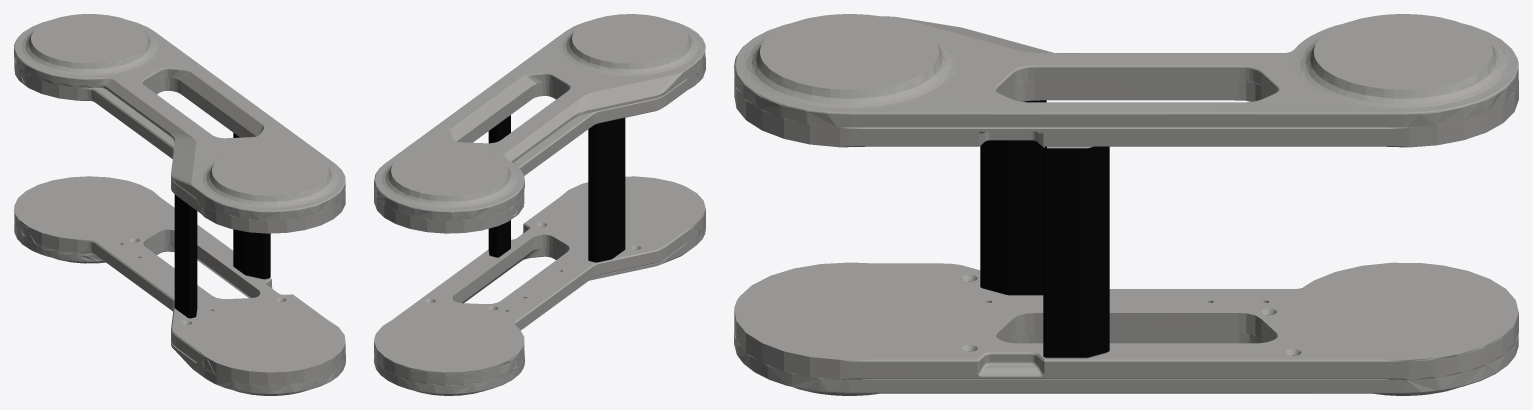
The model's file is torso_link2.usd.sapien.glb.
3 renders of one model, left to right at view 1: azimuth 30°, elevation 25°; view 2: azimuth 150°, elevation 25°; view 3: azimuth 270°, elevation 25°, orthographic. The views are drawn at different scales.
Visible parts, largest first — view 1: torso_link2; view 2: torso_link2; view 3: torso_link2.
Part boxes in pixels (x1,y1,x2,y2): torso_link2: (14,14,345,395); torso_link2: (374,14,705,395); torso_link2: (734,14,1518,395).
Size of the model in its own units: 0.125 by 0.183 by 0.425.
Materials: 1 (1 with a texture image).
